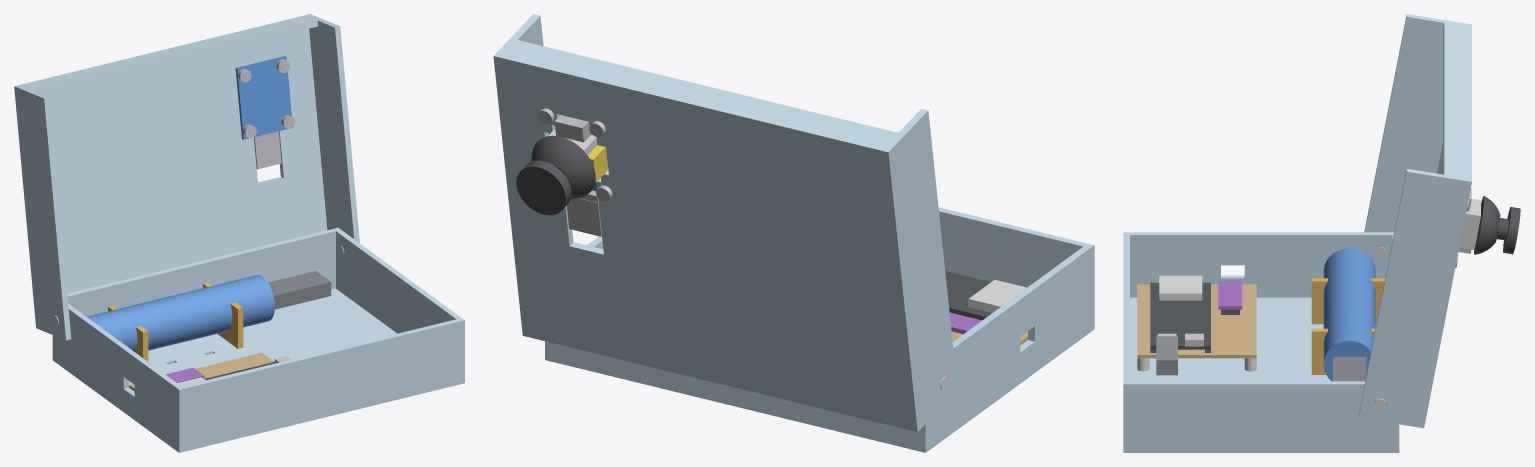
The model's file is equalcare_box_v3.glb.
3 views of the same model, side by side, from view 1: azimuth 30°, elevation 25°; view 2: azimuth 150°, elevation 25°; view 3: azimuth 270°, elevation 25° (orthographic). The views are drawn at different scales.
Parts seen in each view (by area): view 1: lid, enclosure, battery, joystick, cradles, perfboard; view 2: lid, enclosure, joystick, esp32; view 3: enclosure, lid, battery, perfboard, esp32, joystick, cradles, usbcable, bioamp.
Part boxes in pixels (<box>): lid: <box>14,14,359,340</box>; enclosure: <box>52,227,464,452</box>; battery: <box>87,271,331,351</box>; joystick: <box>235,56,295,169</box>; cradles: <box>108,282,243,361</box>; perfboard: <box>129,352,273,391</box>; lid: <box>493,14,957,431</box>; enclosure: <box>545,207,1094,452</box>; joystick: <box>516,108,612,236</box>; esp32: <box>945,271,1026,320</box>; enclosure: <box>1123,232,1399,452</box>; lid: <box>1358,14,1471,428</box>; battery: <box>1323,248,1375,381</box>; perfboard: <box>1137,284,1256,371</box>; esp32: <box>1150,275,1210,352</box>; joystick: <box>1455,188,1520,267</box>; cradles: <box>1311,278,1385,374</box>; usbcable: <box>1156,336,1177,375</box>; bioamp: <box>1218,280,1242,314</box>.
Size of the model in its own units: 0.1568 by 0.1313 by 0.1663.
